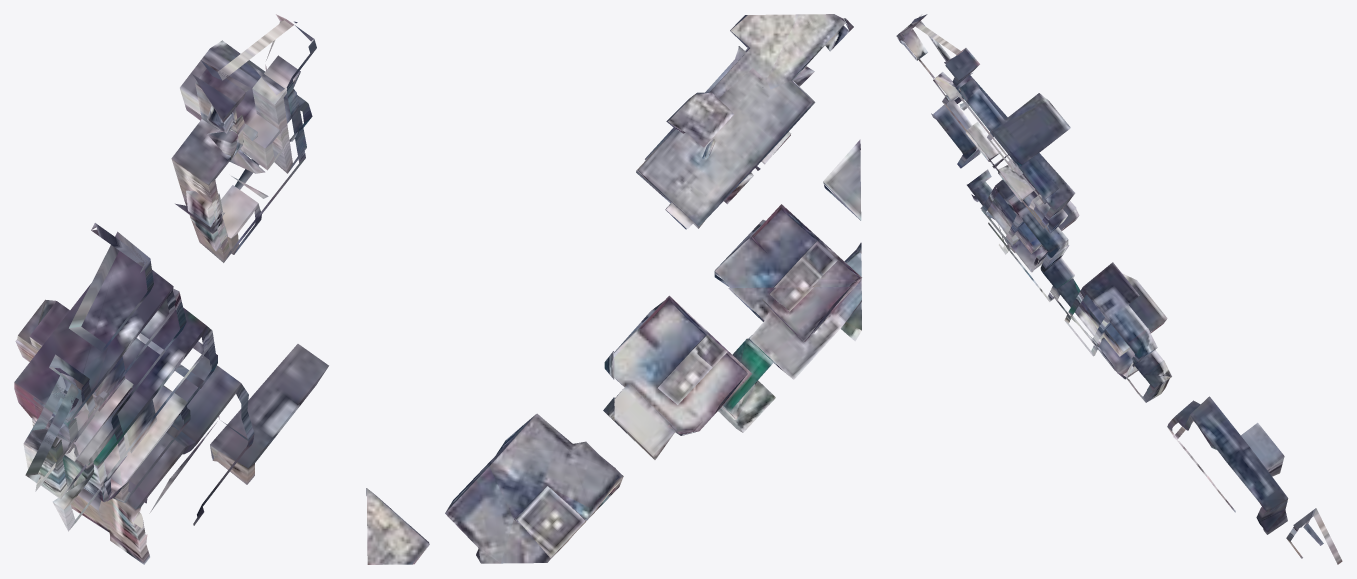
3 renders of one model, left to right at view 1: azimuth 30°, elevation 25°; view 2: azimuth 150°, elevation 25°; view 3: azimuth 270°, elevation 25°, orthographic. The views are drawn at different scales.
Size of the model in its own units: 56.07 by 71.05 by 65.3.
Materials: 1 (1 with a texture image).
